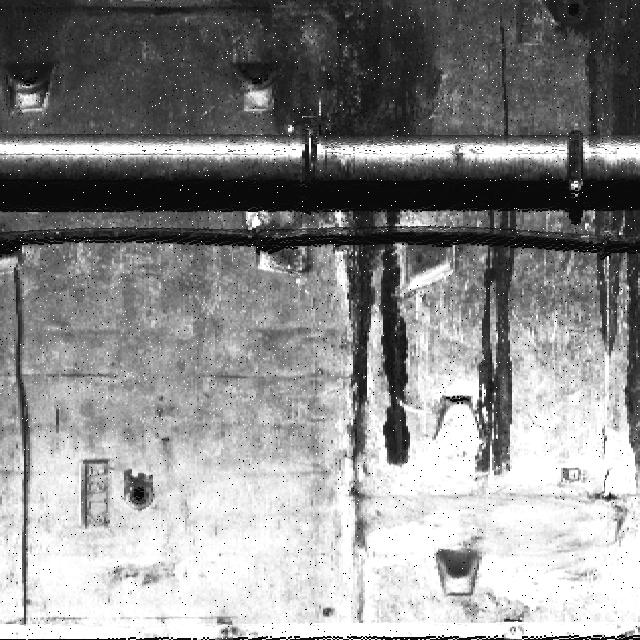leakage: (547, 1, 640, 500), (218, 1, 441, 160), (433, 208, 524, 500), (334, 211, 420, 515)
